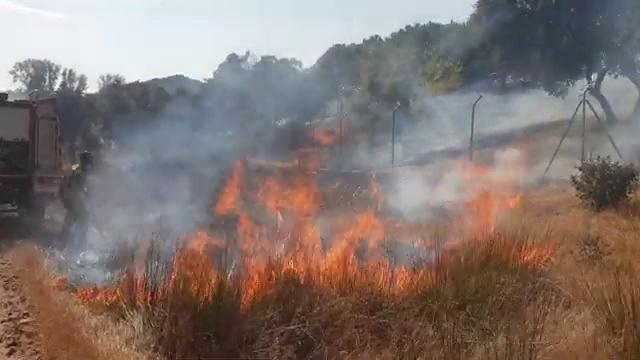fire: (233, 178, 313, 208)
smoke: (112, 133, 195, 229)
